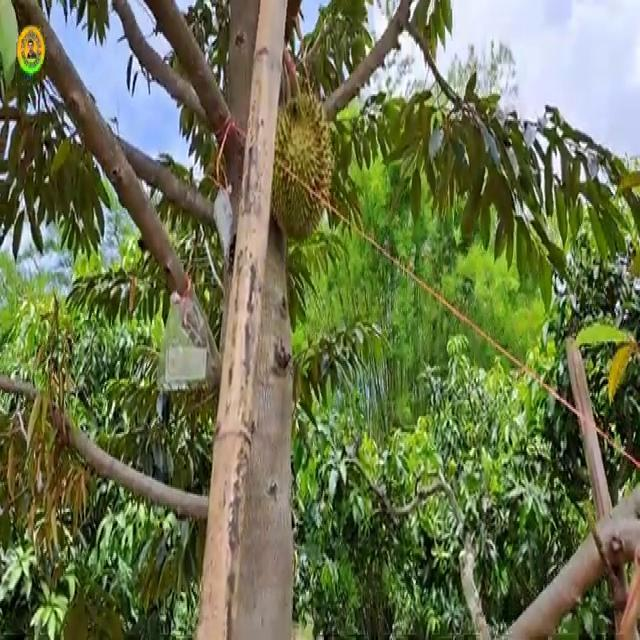durian: (257, 89, 336, 249)
